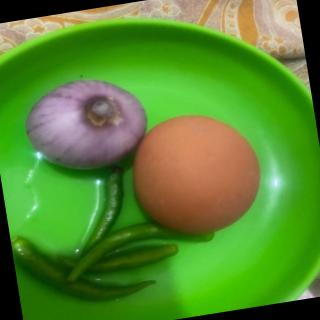Telur: (125, 105, 273, 245)
